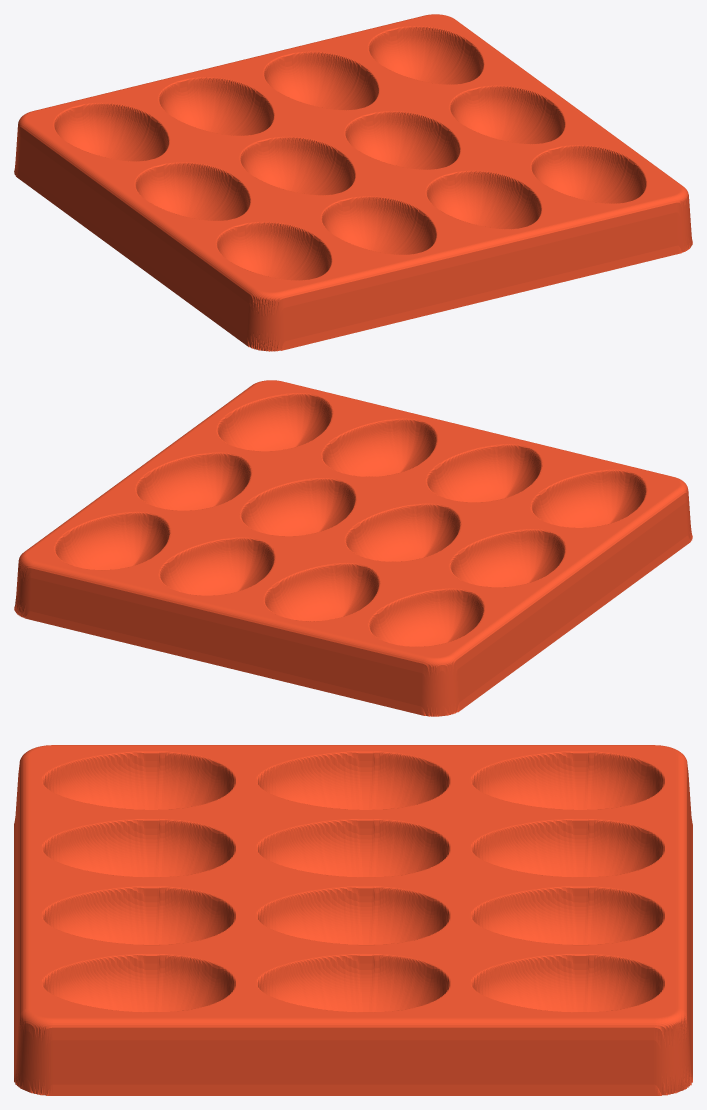
File: mold.glb
3 renders of one model, top to bottom at view 1: azimuth 30°, elevation 25°; view 2: azimuth 150°, elevation 25°; view 3: azimuth 270°, elevation 25°, orthographic. The views are drawn at different scales.
Visible parts, largest first — view 1: geometry_0; view 2: geometry_0; view 3: geometry_0.
Part boxes in pixels (x1=…): geometry_0: x1=14, y1=14, x2=692, y2=351; geometry_0: x1=14, y1=380, x2=692, y2=716; geometry_0: x1=14, y1=745, x2=692, y2=1095.
Size of the model in its own units: 0.1587 by 0.0185 by 0.1598.
